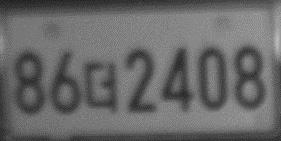0: (196, 47, 228, 111)
2: (123, 48, 160, 114)
4: (162, 47, 195, 113)
6: (48, 49, 82, 114)
8: (12, 50, 46, 115), (232, 44, 266, 109)
더: (84, 59, 120, 114)
